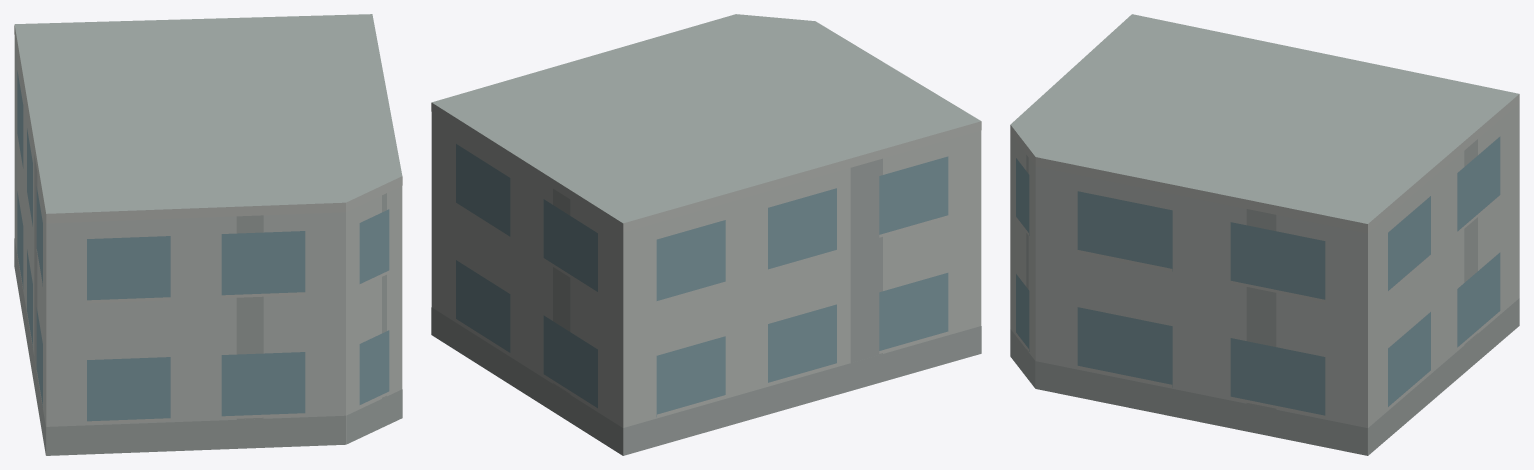
The model's file is survey-upis-32806020.glb.
3 views of the same model, side by side, from view 1: azimuth 30°, elevation 25°; view 2: azimuth 150°, elevation 25°; view 3: azimuth 270°, elevation 25° (orthographic). The views are drawn at different scales.
Parts seen in each view (by area): view 1: survey-upis-32806020.tmp; view 2: survey-upis-32806020.tmp; view 3: survey-upis-32806020.tmp.
Part boxes in pixels (x1=…): survey-upis-32806020.tmp: x1=14, y1=14, x2=402, y2=455; survey-upis-32806020.tmp: x1=431, y1=14, x2=981, y2=455; survey-upis-32806020.tmp: x1=1010, y1=14, x2=1519, y2=455.
Bounding box in the file's own units: 11.86 × 6.1 × 12.15.
